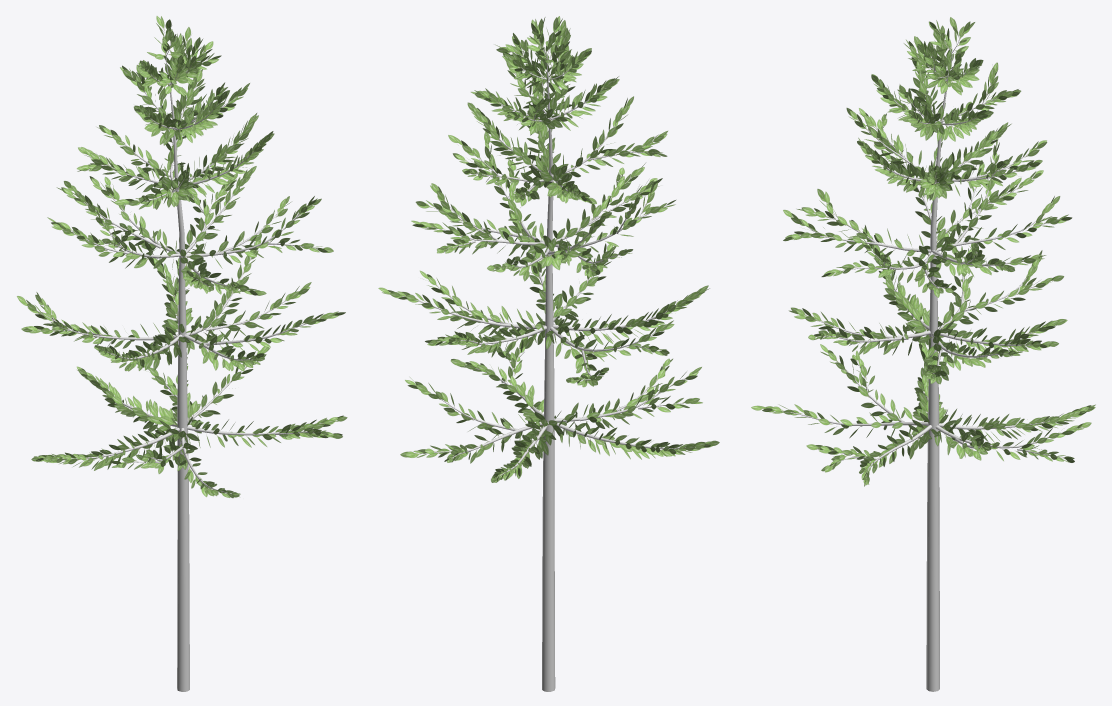
File: tree1.glb
3 views of the same model, side by side, from view 1: azimuth 30°, elevation 25°; view 2: azimuth 150°, elevation 25°; view 3: azimuth 270°, elevation 25° (orthographic). The views are drawn at different scales.
Visible parts, largest first — view 1: leaves, tree; view 2: leaves, tree; view 3: leaves, tree.
Part boxes in pixels (x1,y1,x2,y2): leaves: (17, 16, 347, 498); tree: (37, 30, 323, 691); leaves: (378, 16, 719, 482); tree: (402, 30, 687, 691); leaves: (751, 17, 1095, 486); tree: (781, 32, 1077, 691).
Bounding box in the file's own units: 3.23 × 7.04 × 3.31.
Materials: 2 (1 with a texture image).
